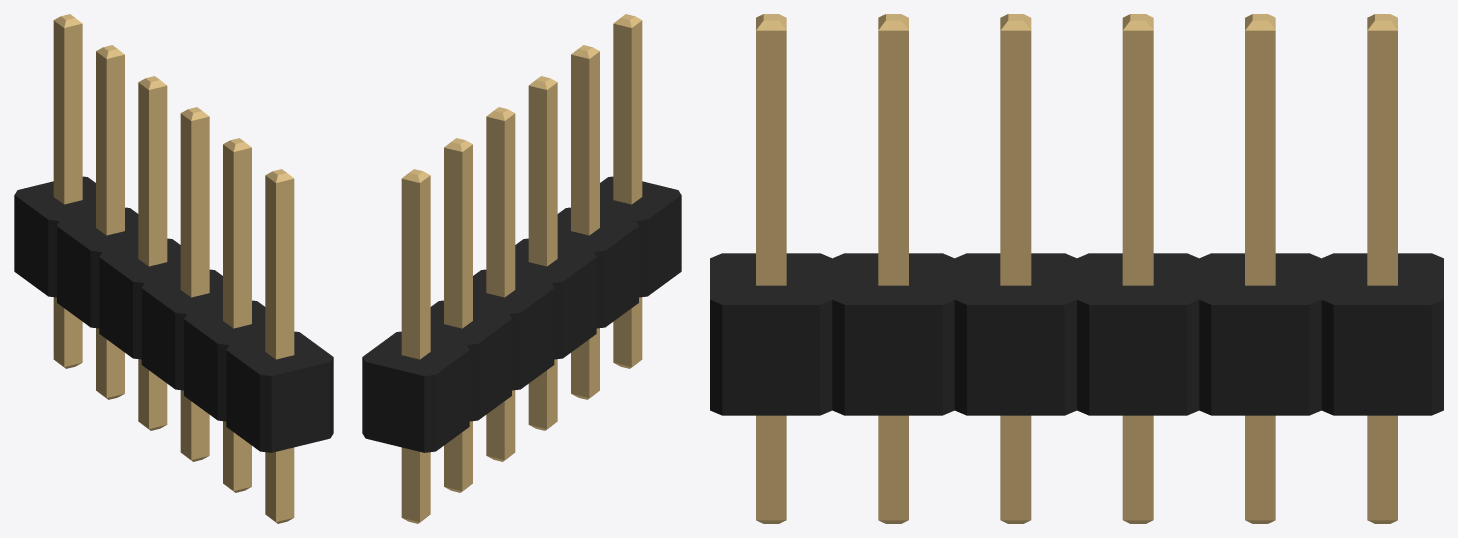
The model's file is Connector_PinHeader_2.54mm__PinHeader_1x06_P2.54mm_Vertical.glb.
3 renders of one model, left to right at view 1: azimuth 30°, elevation 25°; view 2: azimuth 150°, elevation 25°; view 3: azimuth 270°, elevation 25°, orthographic. The views are drawn at different scales.
Visible parts, largest first — view 1: PinHeader_1x06_P254mm_Vertical; view 2: PinHeader_1x06_P254mm_Vertical; view 3: PinHeader_1x06_P254mm_Vertical.
Part boxes in pixels (left/top/right/bottom): PinHeader_1x06_P254mm_Vertical: left=14, top=14, right=333, bottom=523; PinHeader_1x06_P254mm_Vertical: left=362, top=14, right=681, bottom=523; PinHeader_1x06_P254mm_Vertical: left=710, top=14, right=1443, bottom=523.
Size of the model in its own units: 0.00254 by 0.0115 by 0.0152.
